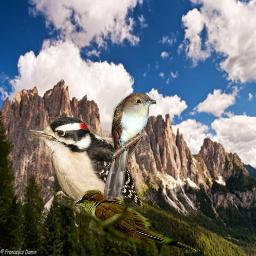Cuckoo: (74, 189, 198, 253), (104, 92, 156, 200)
Woodpecker: (26, 117, 147, 223)
